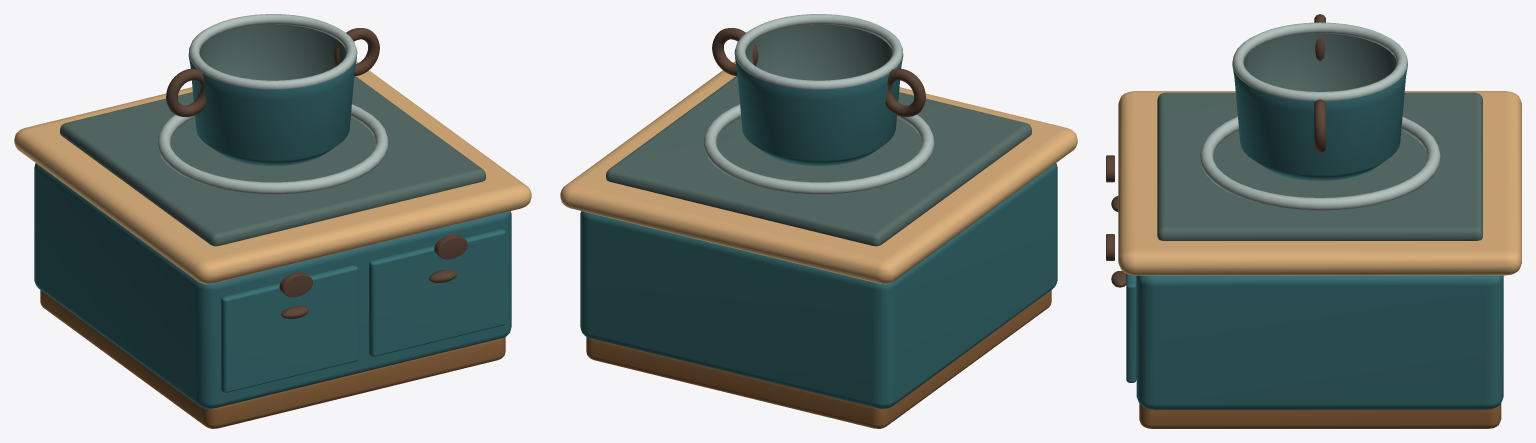
Rendered from station-pot.obj.
3 views of the same model, side by side, from view 1: azimuth 30°, elevation 25°; view 2: azimuth 150°, elevation 25°; view 3: azimuth 270°, elevation 25° (orthographic). The views are drawn at different scales.
Visible parts, largest first — view 1: station-pot_teal, station-pot_darkMetal, station-pot_oakLight, station-pot_oakDark, station-pot_metal, station-pot_cocoa; view 2: station-pot_teal, station-pot_darkMetal, station-pot_oakLight, station-pot_oakDark, station-pot_metal, station-pot_cocoa; view 3: station-pot_teal, station-pot_darkMetal, station-pot_oakLight, station-pot_metal, station-pot_oakDark, station-pot_cocoa.
Boxes of the visible parts, left/top/right/bottom form: station-pot_teal: left=34, top=52, right=511, bottom=408; station-pot_darkMetal: left=60, top=24, right=485, bottom=246; station-pot_oakLight: left=14, top=61, right=531, bottom=284; station-pot_oakDark: left=40, top=290, right=505, bottom=428; station-pot_metal: left=157, top=14, right=388, bottom=194; station-pot_cocoa: left=166, top=28, right=467, bottom=319; station-pot_teal: left=580, top=52, right=1057, bottom=408; station-pot_darkMetal: left=606, top=24, right=1031, bottom=246; station-pot_oakLight: left=560, top=61, right=1077, bottom=284; station-pot_oakDark: left=586, top=290, right=1051, bottom=428; station-pot_metal: left=703, top=14, right=934, bottom=194; station-pot_cocoa: left=712, top=28, right=925, bottom=116; station-pot_teal: left=1126, top=64, right=1503, bottom=409; station-pot_darkMetal: left=1157, top=33, right=1482, bottom=240; station-pot_oakLight: left=1118, top=91, right=1521, bottom=275; station-pot_metal: left=1199, top=22, right=1440, bottom=210; station-pot_oakDark: left=1139, top=403, right=1501, bottom=428; station-pot_cocoa: left=1106, top=14, right=1325, bottom=287.
Size of the model in its own units: 0.78 by 0.6365 by 0.804.
